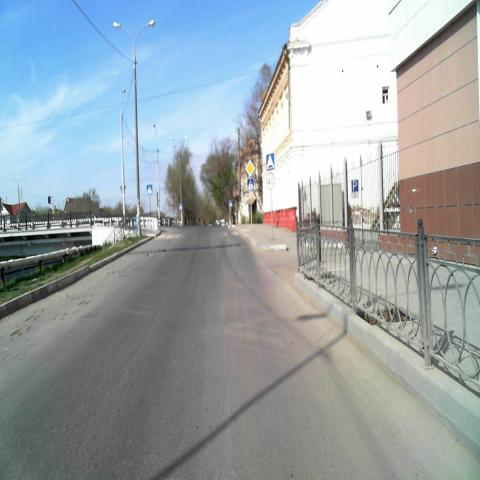5_20: (267, 154, 274, 170)
